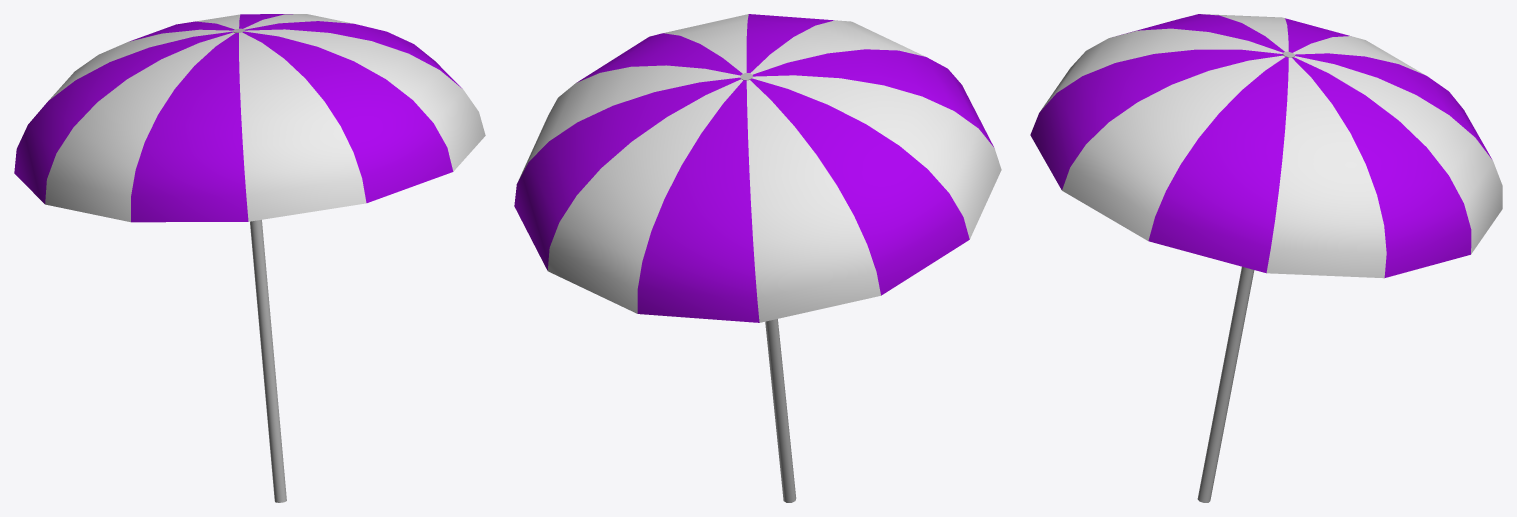
The model's file is PARASOL2.fbx.
The picture shows the model from 3 angles, left to right: view 1: azimuth 30°, elevation 25°; view 2: azimuth 150°, elevation 25°; view 3: azimuth 270°, elevation 25°; orthographic projection. The views are drawn at different scales.
Visible parts, largest first — view 1: Cylinder; view 2: Cylinder; view 3: Cylinder.
Boxes of the visible parts, x1,y1,x2,y2 form: Cylinder: [14, 14, 485, 502]; Cylinder: [514, 14, 1001, 502]; Cylinder: [1030, 14, 1502, 502].
Size of the model in its own units: 3.65 by 3.8 by 3.6.
